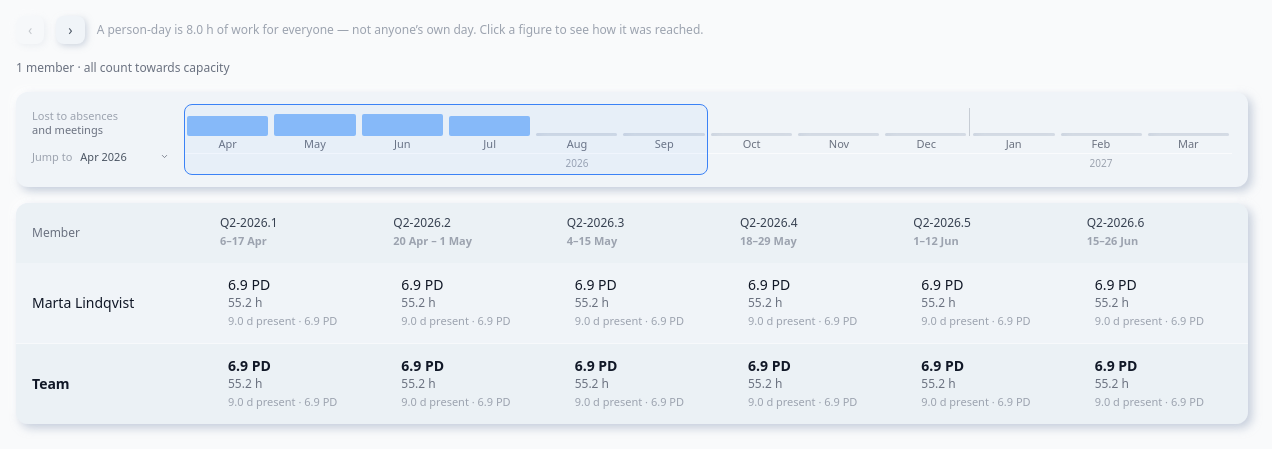
Scenario: TeamCapacityView minimap › keeps the frame on the window the arrows moved
The image size is (1272, 449).
Expected: the column heading "Marta Lindqvist" is shown, x1=16 y1=262 x2=208 y2=343
Click the button named "Later sprints".
click(70, 30)  # box x1=56 y1=16 x2=85 y2=44
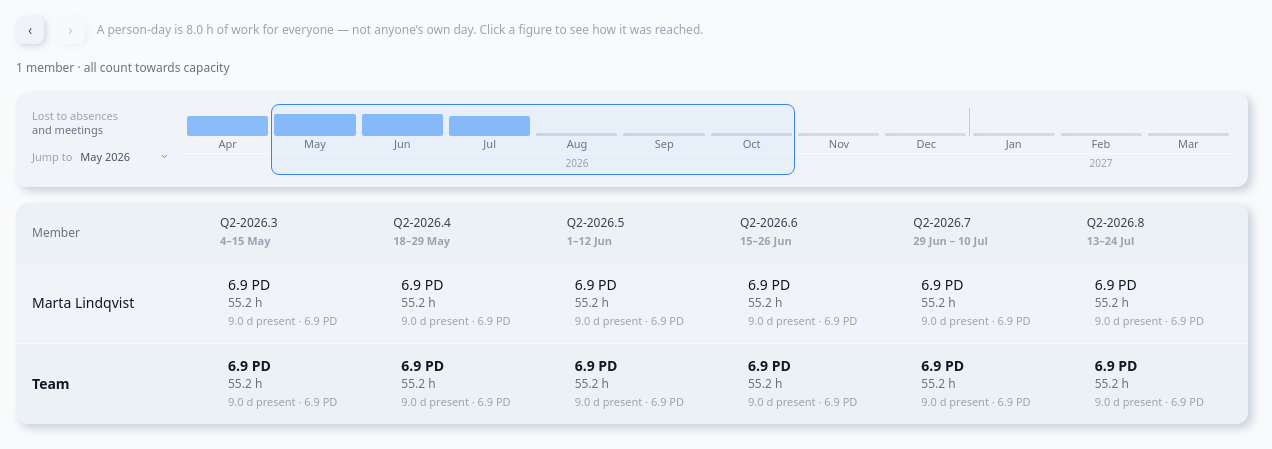
Expected: the button named "Showing May 2026 to Oct 2026" is shown, x1=271 y1=104 x2=795 y2=174
